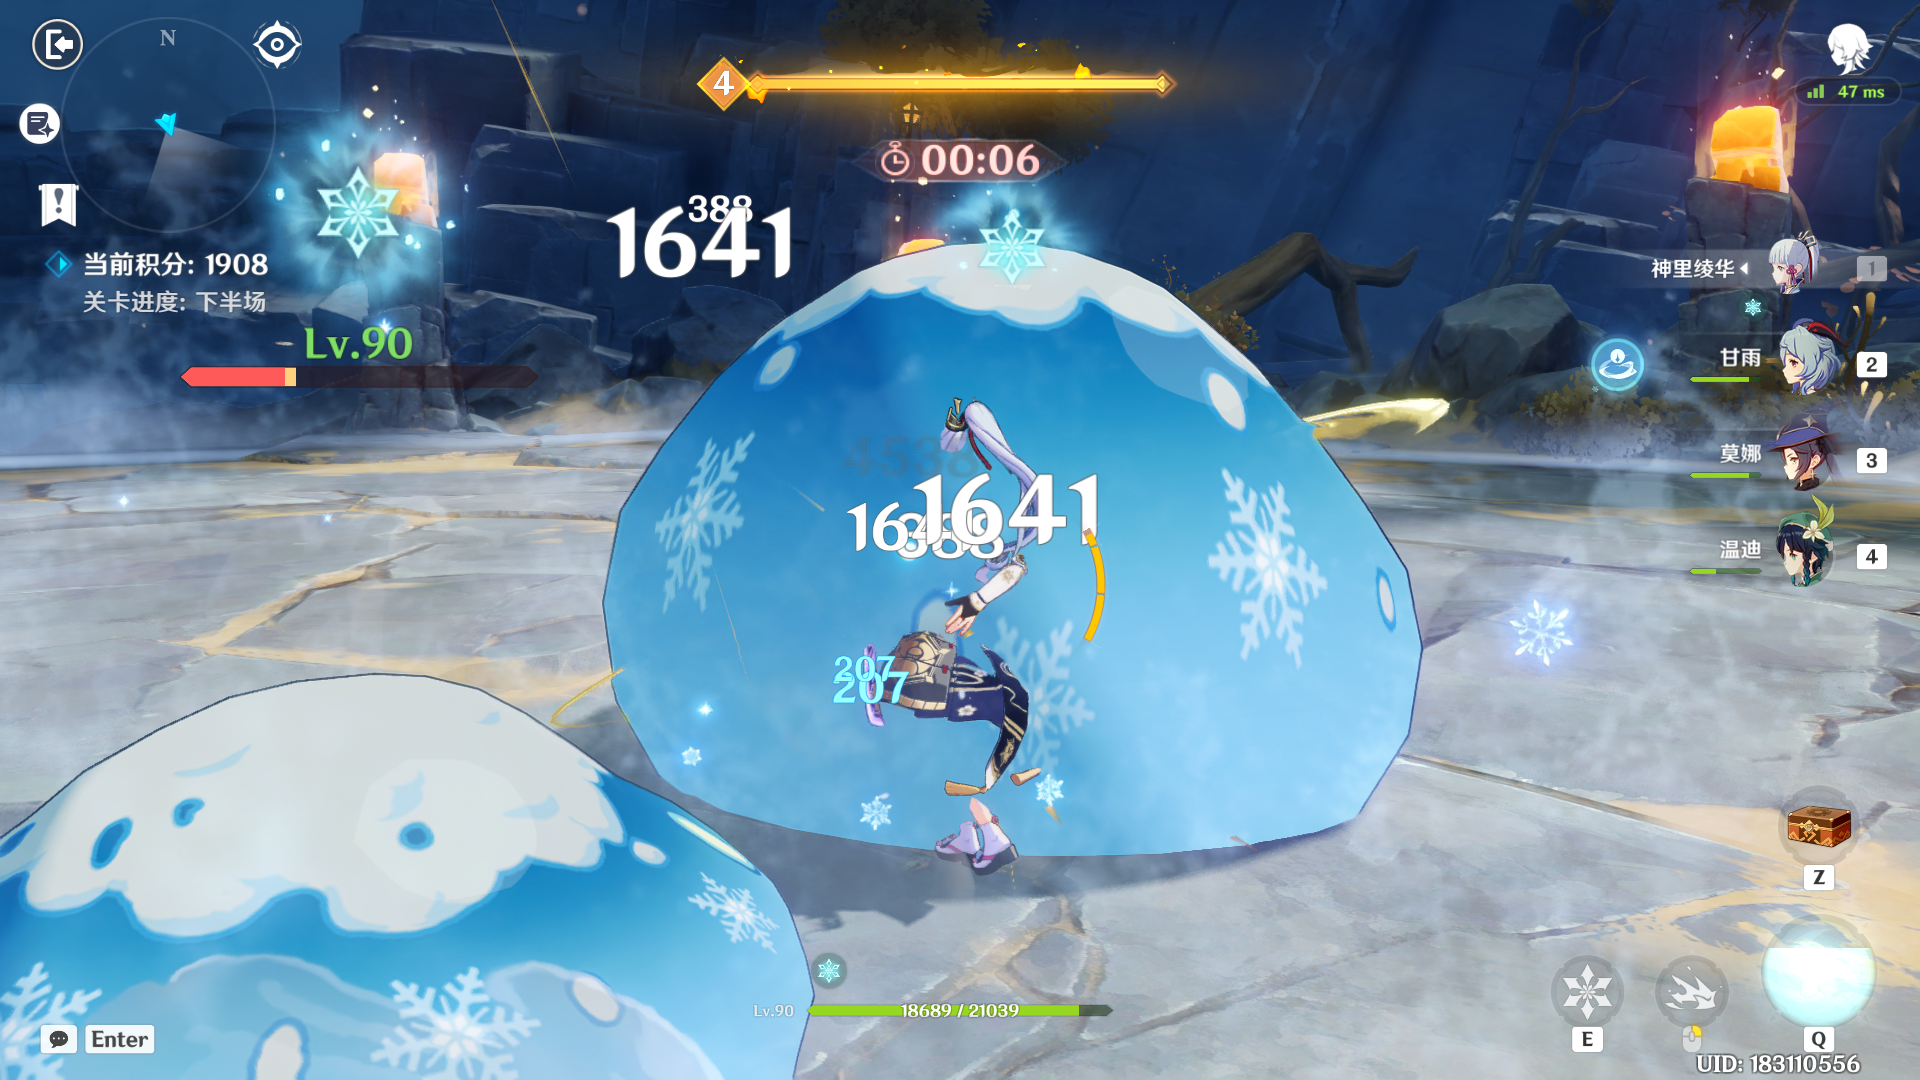slime: (574, 239, 1452, 864), (1, 621, 836, 1080)
